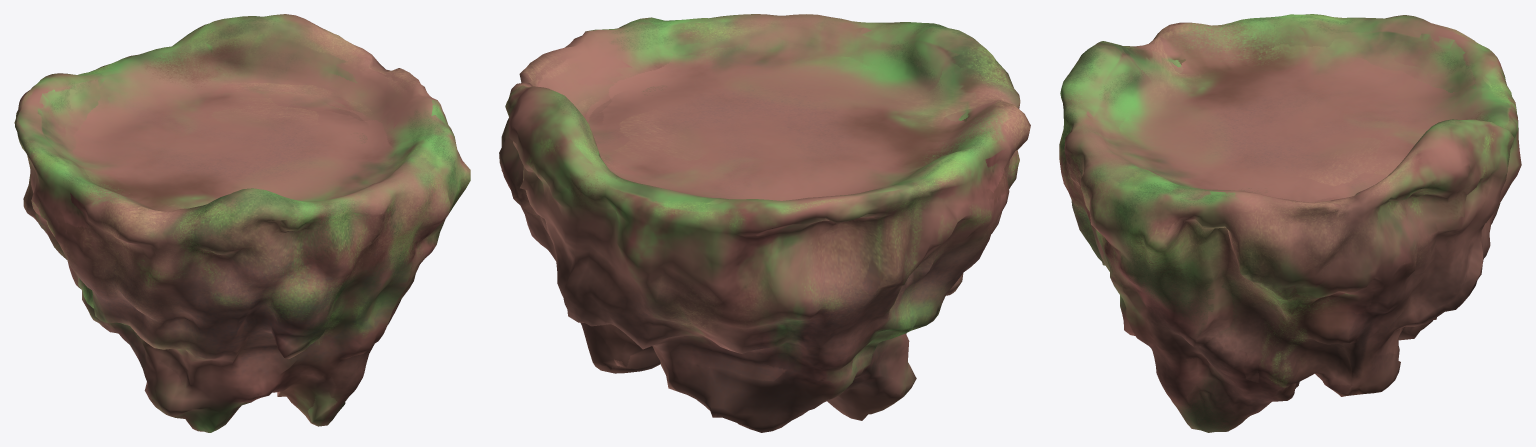
File: island.glb
3 views of the same model, side by side, from view 1: azimuth 30°, elevation 25°; view 2: azimuth 150°, elevation 25°; view 3: azimuth 270°, elevation 25° (orthographic). The views are drawn at different scales.
Parts seen in each view (by area): view 1: island rock remeshed; view 2: island rock remeshed; view 3: island rock remeshed.
Boxes of the visible parts, <box> form: island rock remeshed: <box>14,14,470,432</box>; island rock remeshed: <box>499,14,1030,432</box>; island rock remeshed: <box>1059,14,1521,432</box>.
Bounding box in the file's own units: 48.46 × 37.17 × 46.18.
Materials: 1 (1 with a texture image).
